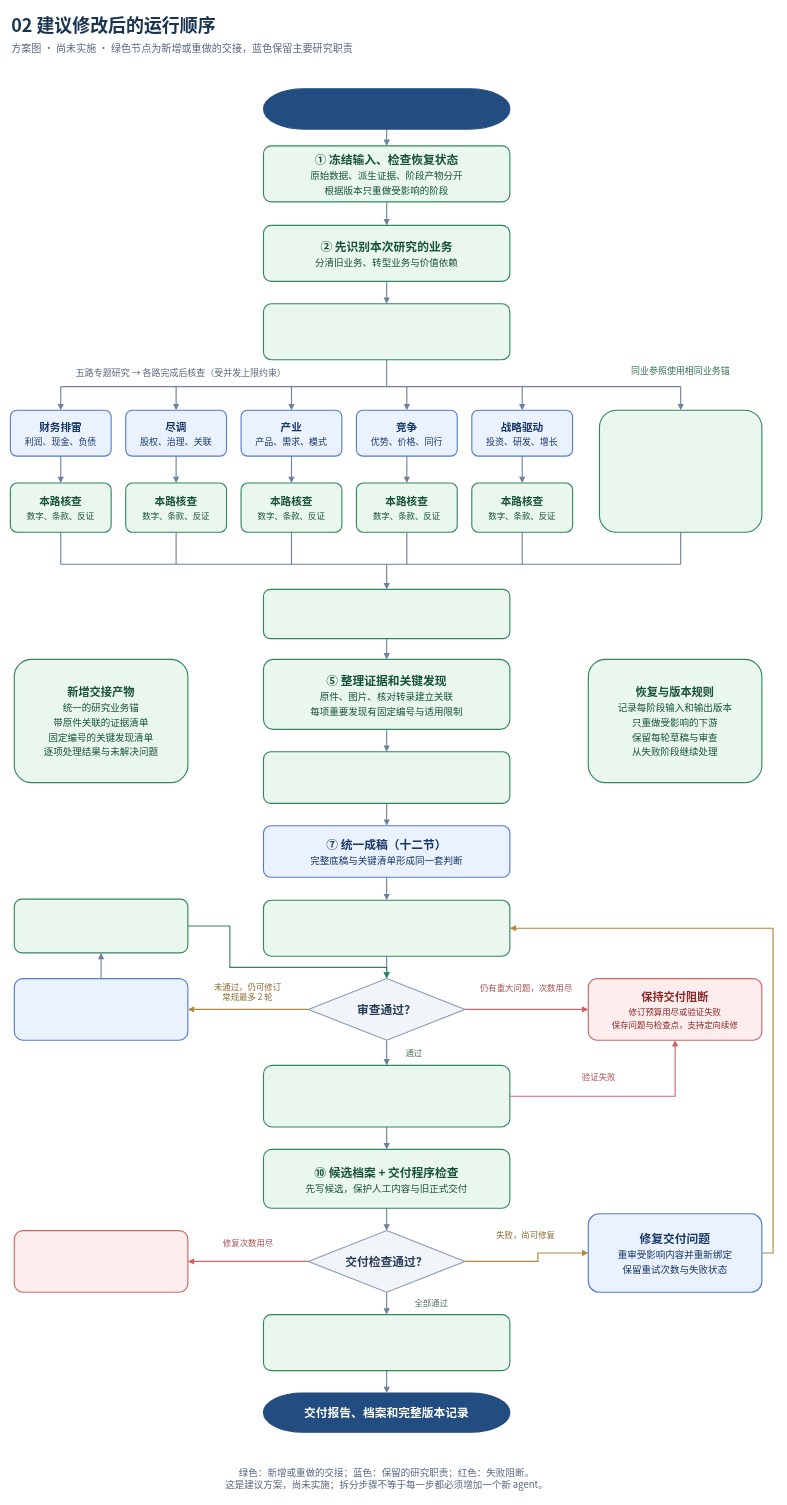
Some shapes in this 787 by 1505 pixel diagram are drawn without their labels. The shapes that lost their labels are listed below. From the top down, each one's centre as x and y in pixels, then its label:
At (386,108): "输入股票代码、报告日 沿用现有技能入口与 Node 编排器".
At (386,331): "③ 立疑并保存统一业务锚 明确研究范围、证据时期和待验证假设 后续阶段读取同一版本".
At (680,471): "按业务、分部找参照 来源可回溯 ≠ 经济可比 经营案例与估值用途分开".
At (386,614): "④ 按待解决需求补参照 区分经营比较、估值用途；缺失则明确保留".
At (386,777): "⑥ 写作规划 安排重要发现进入哪一节，说明取舍".
At (100,925): "定向复核 + 全文回归 检查旧问题；新增问题须记入清单".
At (386,927): "⑧ 首次完整审查 读全证据，补齐并确定问题清单".
At (100,1009): "按固定编号修订 保留证据限制与已正确内容 修订轮数和未决问题持续记录".
At (386,1096): "⑨ 绑定并验证三个版本 报告 + 证据集 + 关键发现清单 图片引用通过已核对的文字转录校验".
At (100,1261): "保存失败检查点 持续失败，保留候选与待办 旧正式报告和档案不被覆盖".
At (386,1342): "⑪ 提交档案并生成 PDF 正式交付对应同一套已通过的版本".
